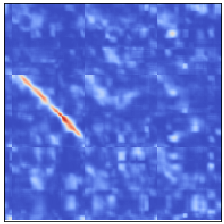action_path: (8, 75, 83, 149)
